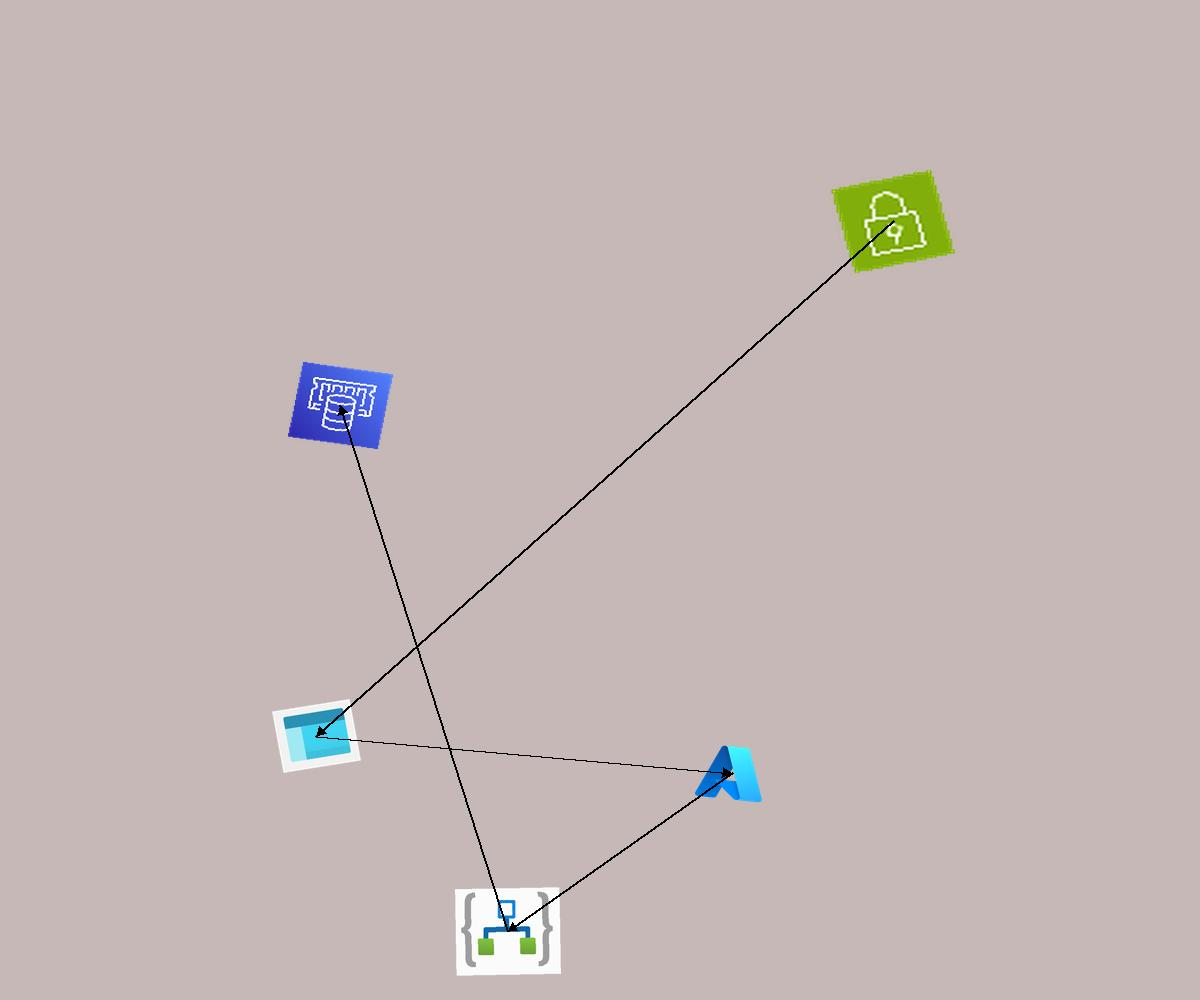AWS-ElastiCache: (287, 361, 394, 450)
AWS-Public-subnet: (829, 168, 957, 275)
Azure_integration-204-Logic-Apps: (455, 887, 561, 976)
Azure_management-portal: (272, 699, 361, 773)
Azure_services: (691, 739, 773, 807)
